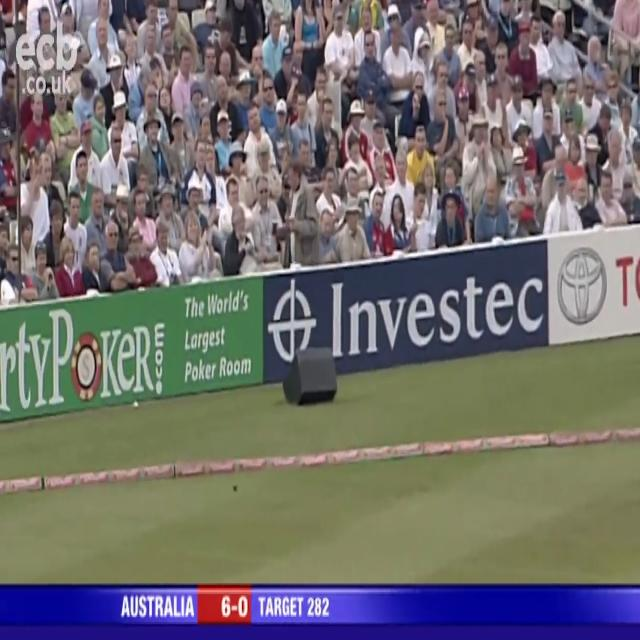ball: (232, 480, 240, 494)
